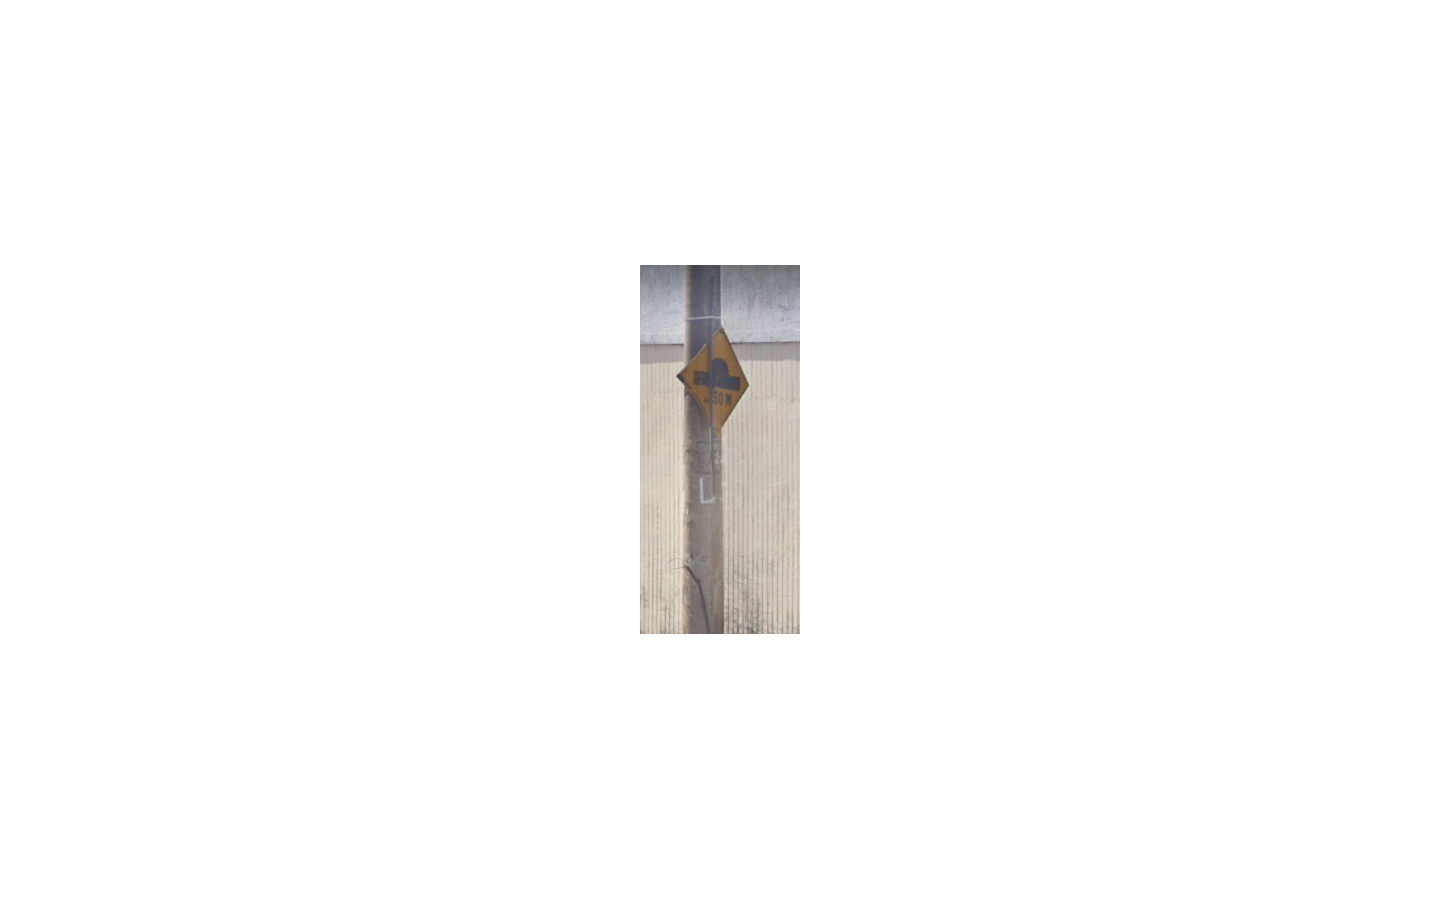l50m: (678, 325, 750, 435)
